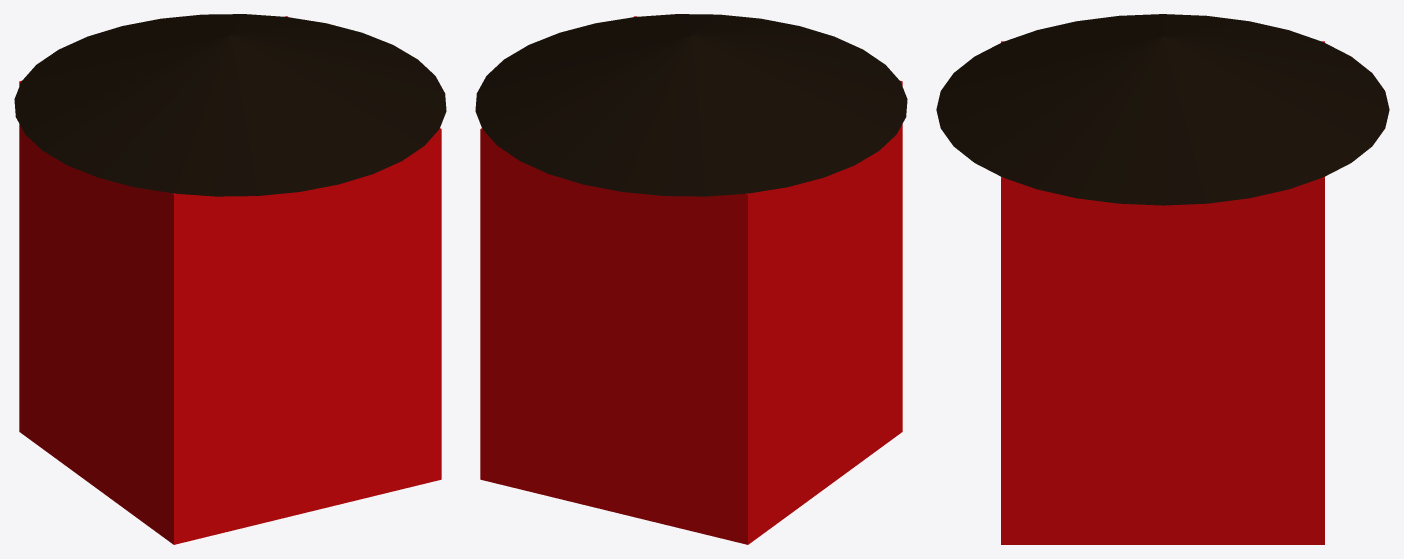
Rendered from shed.glb.
3 views of the same model, side by side, from view 1: azimuth 30°, elevation 25°; view 2: azimuth 150°, elevation 25°; view 3: azimuth 270°, elevation 25° (orthographic). The views are drawn at different scales.
Parts seen in each view (by area): view 1: Cube, Cone; view 2: Cube, Cone; view 3: Cube, Cone.
Part boxes in pixels (bbox=[...]): Cube: bbox=[19, 16, 441, 544]; Cone: bbox=[14, 14, 446, 196]; Cube: bbox=[480, 16, 902, 544]; Cone: bbox=[475, 14, 907, 196]; Cube: bbox=[1001, 41, 1324, 544]; Cone: bbox=[936, 14, 1389, 205].
Size of the model in its own units: 5.6 by 6 by 5.6.
